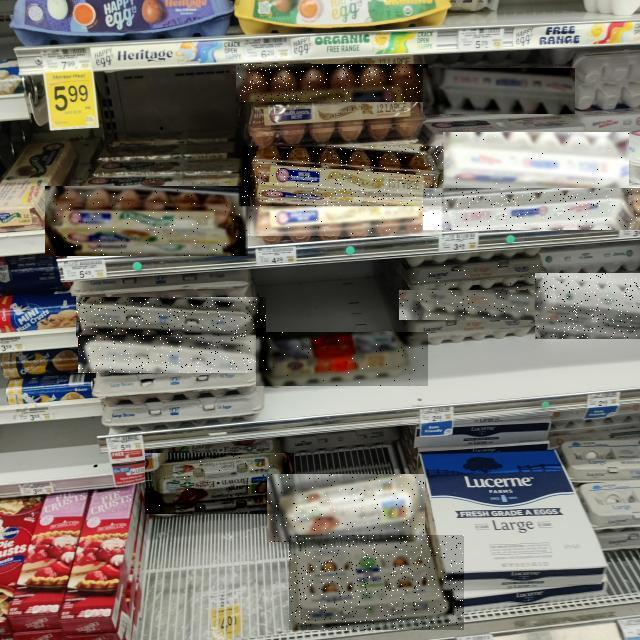Eggs: (289, 535, 464, 630), (46, 186, 250, 256), (242, 146, 444, 206), (267, 474, 425, 542), (443, 132, 629, 188), (256, 332, 428, 386), (423, 188, 640, 230), (145, 453, 294, 514), (76, 298, 266, 340), (246, 197, 442, 236), (236, 64, 428, 102), (423, 68, 575, 114), (535, 273, 640, 339), (78, 338, 272, 373), (402, 264, 560, 294), (399, 290, 556, 320)
